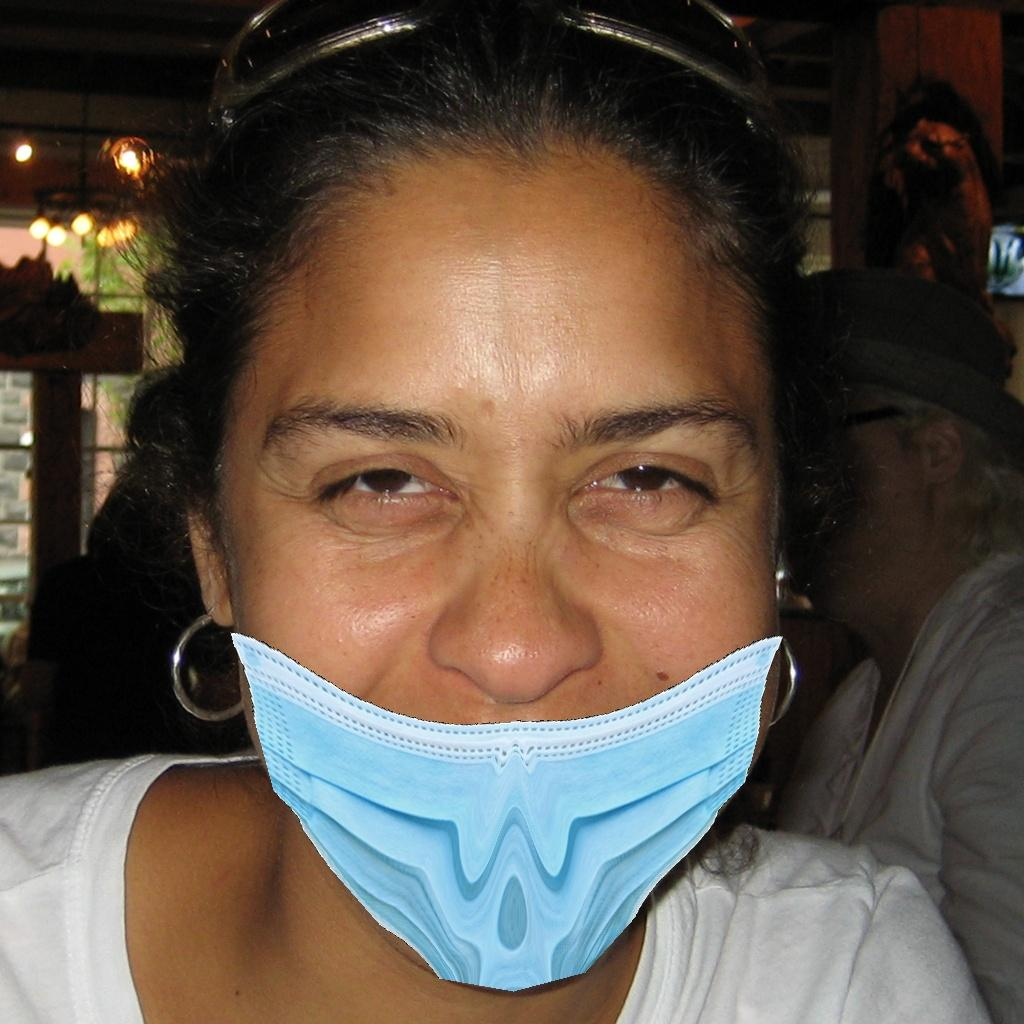Máscara Incorreta: (227, 210, 748, 966)
